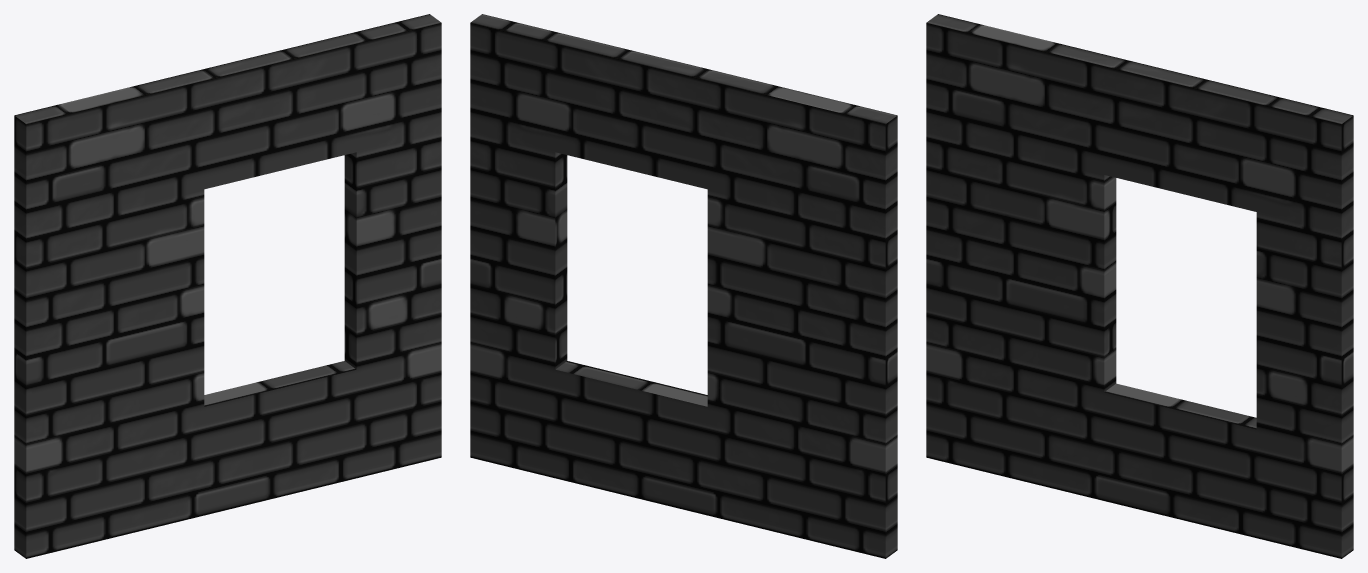
The model's file is Wall_3_D.fbx.
The picture shows the model from 3 angles, left to right: view 1: azimuth 30°, elevation 25°; view 2: azimuth 150°, elevation 25°; view 3: azimuth 330°, elevation 25°; orthographic projection.
Visible parts, largest first — view 1: pCube41; view 2: pCube41; view 3: pCube41.
Boxes of the visible parts, x1,y1,x2,y2 form: pCube41: [14, 14, 441, 558]; pCube41: [470, 14, 897, 558]; pCube41: [926, 14, 1353, 558].
Size of the model in its own units: 4 by 4 by 0.2.
